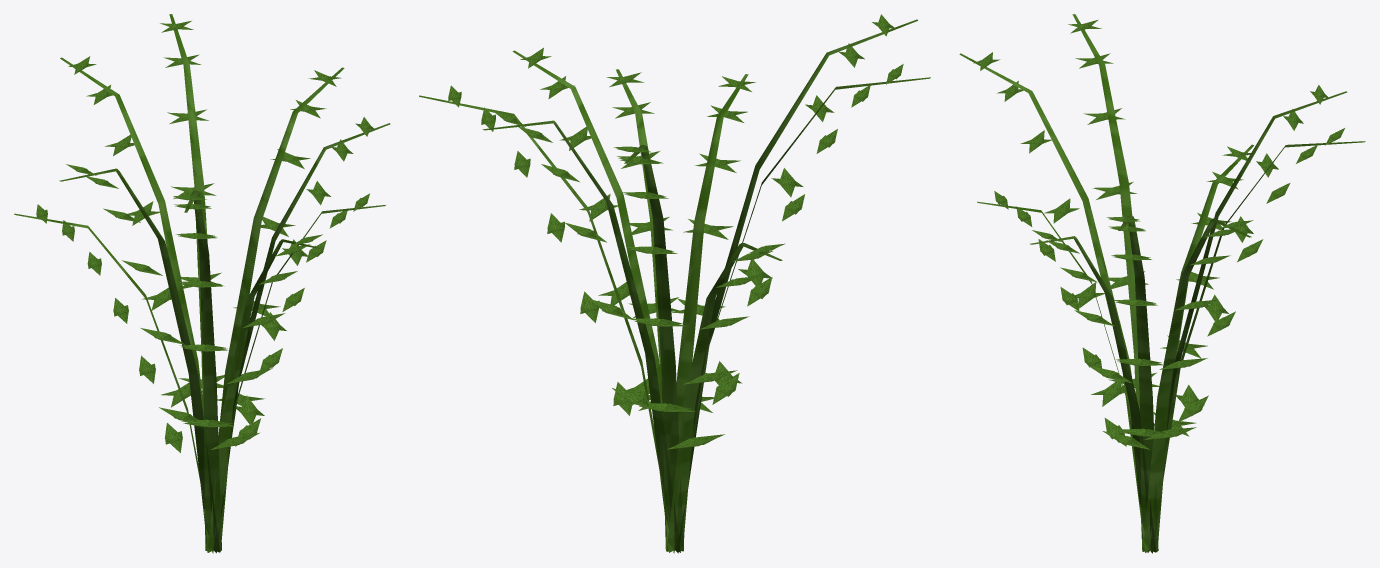
The model's file is fern02-lod0.glb.
3 renders of one model, left to right at view 1: azimuth 30°, elevation 25°; view 2: azimuth 150°, elevation 25°; view 3: azimuth 270°, elevation 25°, orthographic. The views are drawn at different scales.
Visible parts, largest first — view 1: TZ_ground_plant_Batch_00_LOD0; view 2: TZ_ground_plant_Batch_00_LOD0; view 3: TZ_ground_plant_Batch_00_LOD0.
Boxes of the visible parts, <box> form: TZ_ground_plant_Batch_00_LOD0: <box>14,14,390,553</box>; TZ_ground_plant_Batch_00_LOD0: <box>419,14,930,553</box>; TZ_ground_plant_Batch_00_LOD0: <box>959,14,1365,553</box>.
Size of the model in its own units: 0.6281 by 0.72 by 0.5947.
Materials: 1 (1 with a texture image).
